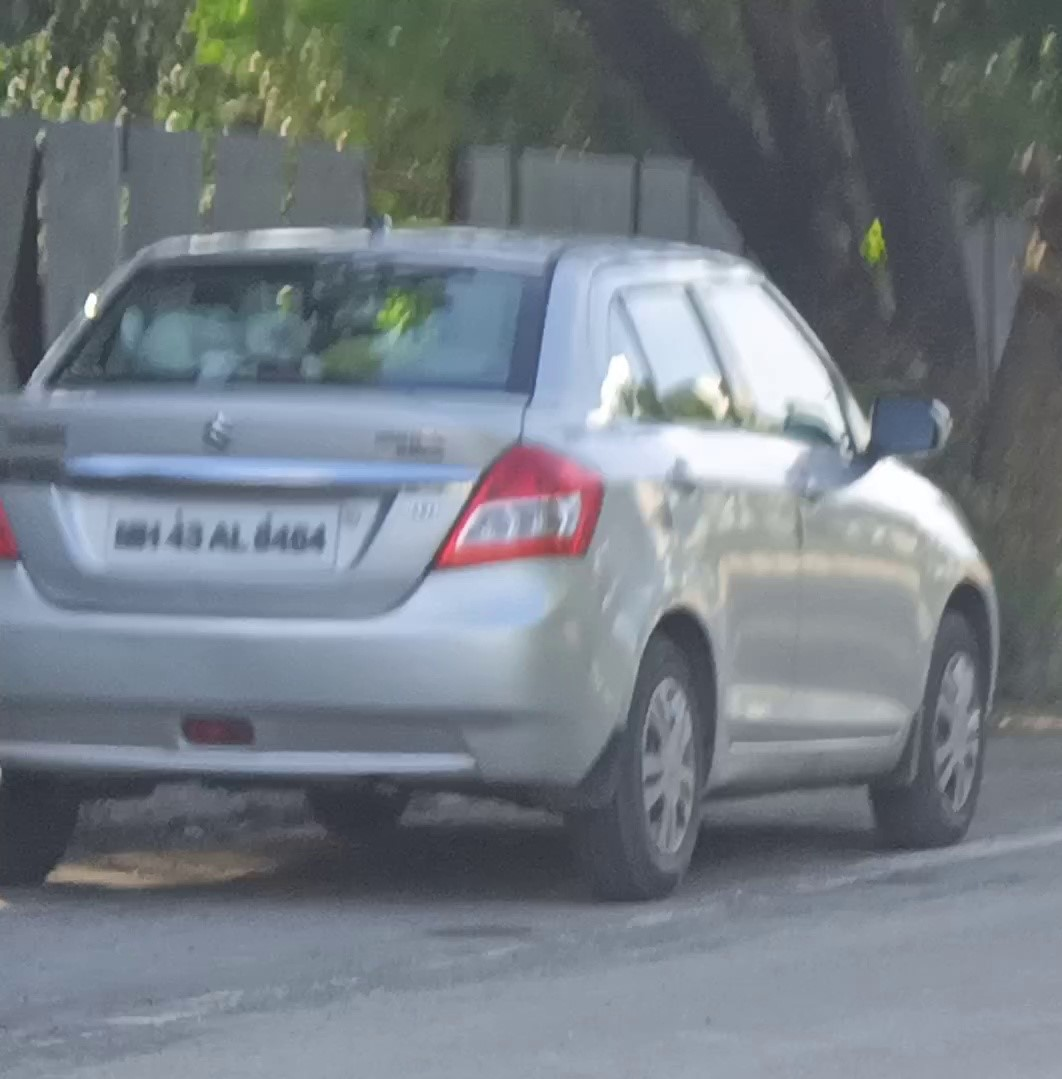MH43AL8464: (107, 496, 341, 564)
